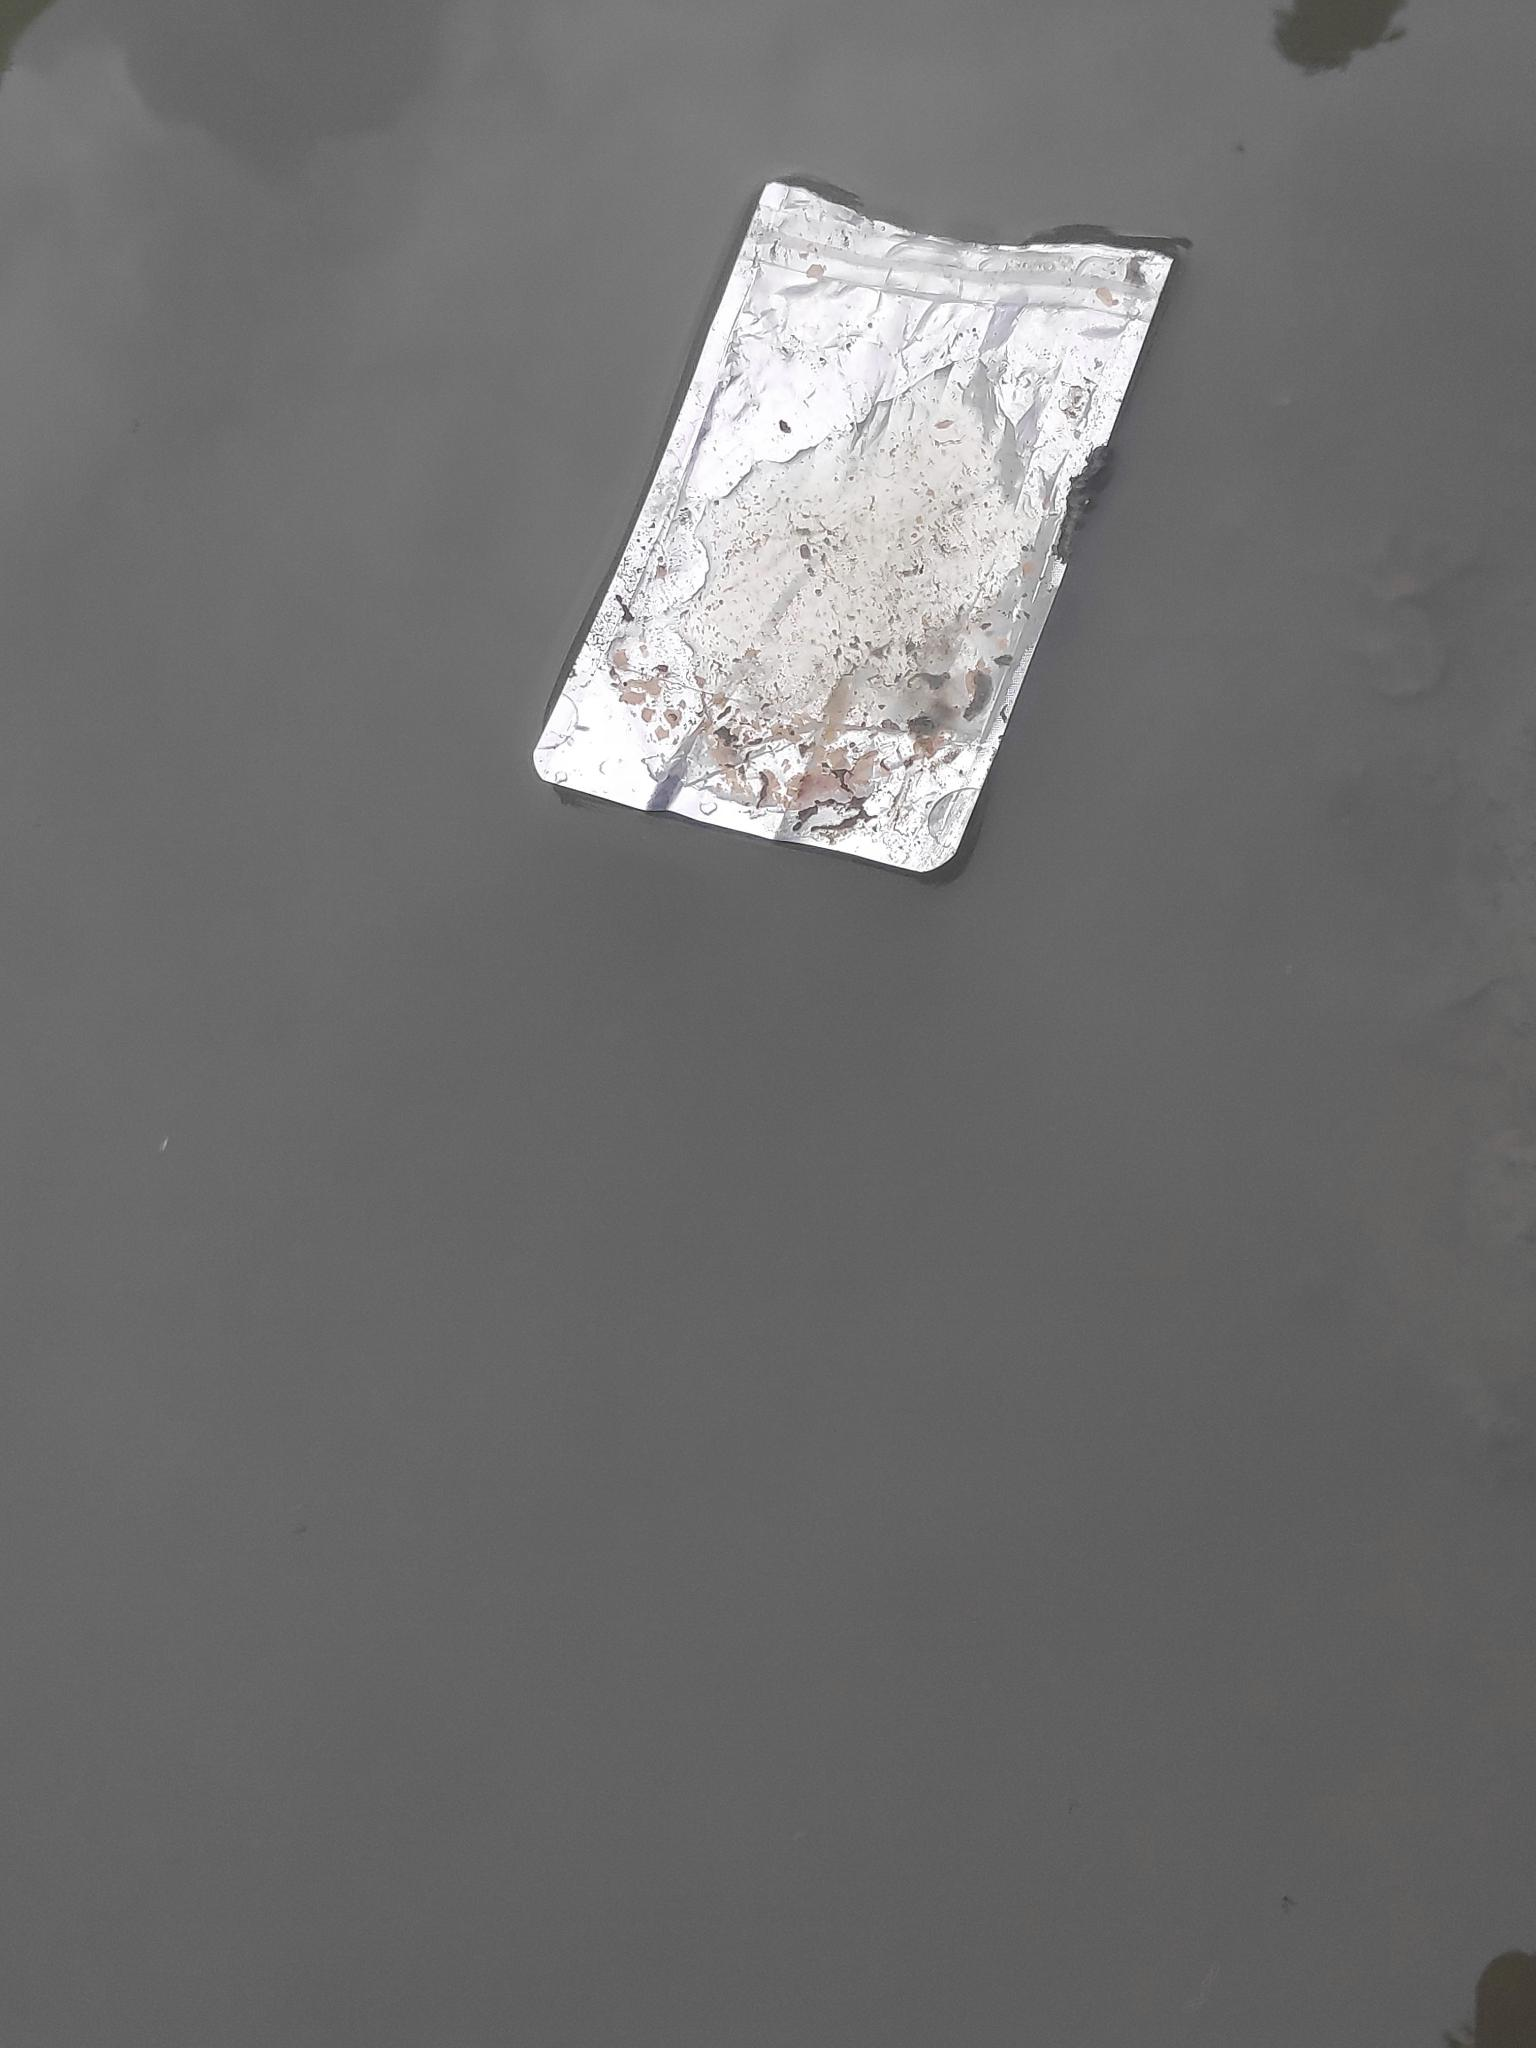Trash: (523, 160, 1184, 872)
